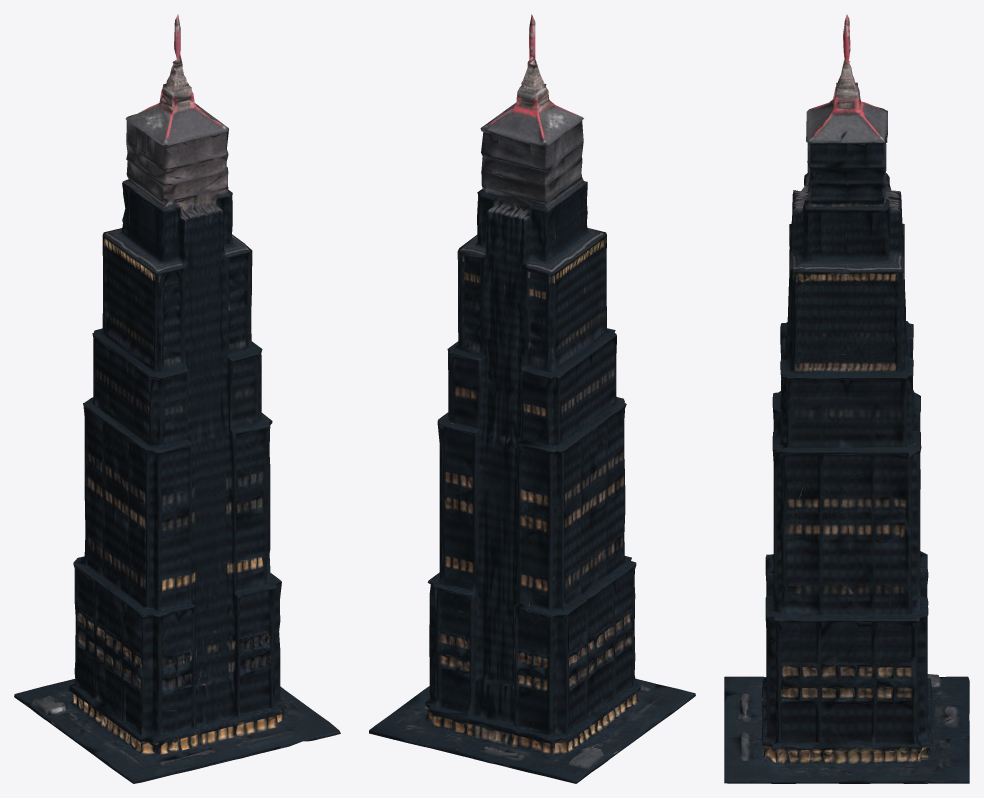
The model's file is tower_b_p.glb.
The picture shows the model from 3 angles, left to right: view 1: azimuth 30°, elevation 25°; view 2: azimuth 150°, elevation 25°; view 3: azimuth 270°, elevation 25°; orthographic projection. The views are drawn at different scales.
Bounding box in the file's own units: 0.5883 × 1.9 × 0.5881.
1 material, 1 textured.
